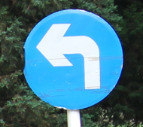left_turn: (22, 9, 123, 111)
